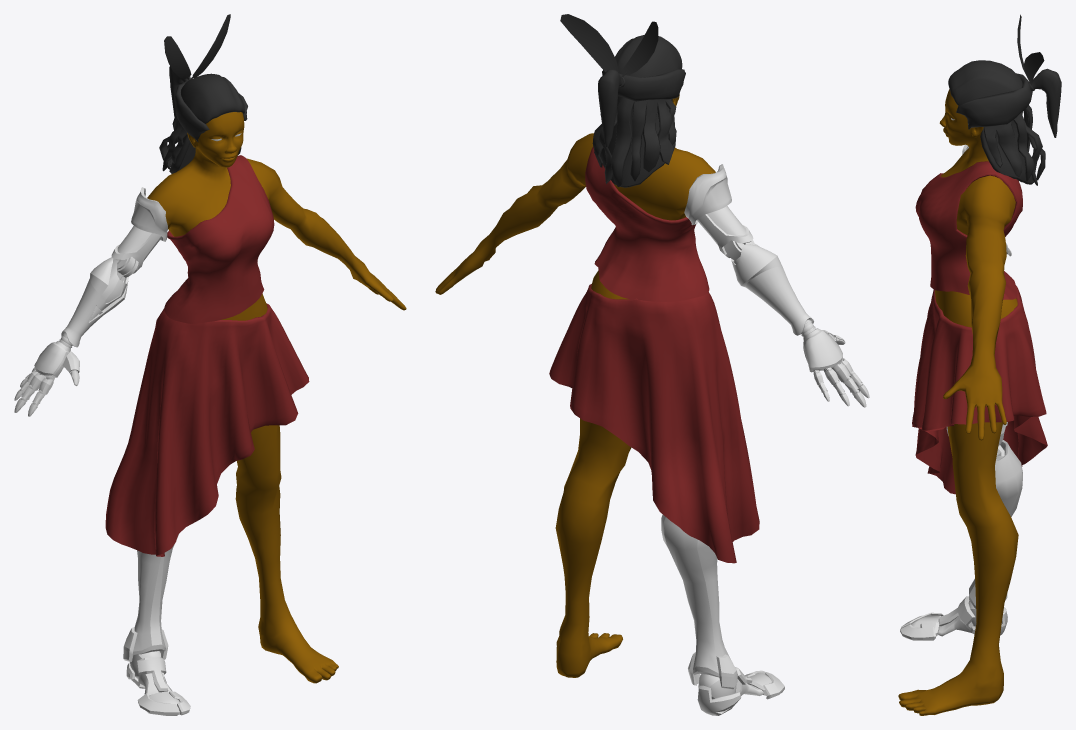
The model's file is maorigirls.obj.
The picture shows the model from 3 angles, left to right: view 1: azimuth 30°, elevation 25°; view 2: azimuth 150°, elevation 25°; view 3: azimuth 270°, elevation 25°; orthographic projection. The views are drawn at different scales.
Visible parts, largest first — view 1: Geo StaticSkirt, Geo GirlModel, Geo ShirtObject, Geo leg Lower_LEg, Geo OnTopHair Hair1, MainForeArm ForeArm Geo, Geo ShoulderRotator, Geo Bicep, Geo Hair1 Hair_wraparound, Geo Hand Palm_Piece, ForeArm Geo ForeArm_Inner, Geo Hair1 CurlyHair (+2 smaller); view 2: Geo StaticSkirt, Geo GirlModel, Geo ShirtObject, Geo leg Lower_LEg, Geo Hair1 CurlyHair, MainForeArm ForeArm Geo, Geo ShoulderRotator, Geo Hair1 Hair_wraparound, Geo OnTopHair Hair1, Geo Bicep, Geo pPlane26 Feather1, Geo Hand Palm_Piece (+4 smaller); view 3: Geo GirlModel, Geo StaticSkirt, Geo ShirtObject, Geo Hair1 CurlyHair, Geo OnTopHair Hair1, Geo Hair1 Hair_wraparound, Geo leg Lower_LEg, Geo Hair1 Ponytail, Geo Hair1 MainHangingHair, Geo leg Foot Big_Toe_Piece, Geo leg Foot Top_of_foot, Geo pPlane26 Feather1 (+1 smaller).
Part boxes in pixels (<box>): Geo StaticSkirt: <box>105,303,309,556</box>; Geo GirlModel: <box>147,112,406,683</box>; Geo ShirtObject: <box>164,155,274,323</box>; Geo leg Lower_LEg: <box>123,534,178,661</box>; Geo OnTopHair Hair1: <box>181,73,244,123</box>; MainForeArm ForeArm Geo: <box>61,257,128,347</box>; Geo ShoulderRotator: <box>131,187,167,241</box>; Geo Bicep: <box>111,226,161,273</box>; Geo Hair1 Hair_wraparound: <box>174,79,247,142</box>; Geo Hand Palm_Piece: <box>34,340,70,377</box>; ForeArm Geo ForeArm_Inner: <box>90,259,129,320</box>; Geo Hair1 CurlyHair: <box>159,114,187,171</box>; Geo StaticSkirt: <box>549,284,759,563</box>; Geo GirlModel: <box>435,94,715,677</box>; Geo ShirtObject: <box>585,146,709,302</box>; Geo leg Lower_LEg: <box>661,514,737,689</box>; Geo Hair1 CurlyHair: <box>592,96,676,186</box>; MainForeArm ForeArm Geo: <box>730,244,813,335</box>; Geo ShoulderRotator: <box>684,164,731,225</box>; Geo Hair1 Hair_wraparound: <box>602,69,685,101</box>; Geo OnTopHair Hair1: <box>615,35,682,77</box>; Geo Bicep: <box>697,206,753,257</box>; Geo pPlane26 Feather1: <box>560,14,618,72</box>; Geo Hand Palm_Piece: <box>803,328,842,372</box>; Geo GirlModel: <box>898,89,1018,715</box>; Geo StaticSkirt: <box>912,285,1047,494</box>; Geo ShirtObject: <box>915,161,1022,299</box>; Geo Hair1 CurlyHair: <box>984,105,1045,185</box>; Geo OnTopHair Hair1: <box>948,60,1022,105</box>; Geo Hair1 Hair_wraparound: <box>956,73,1032,129</box>; Geo leg Lower_LEg: <box>969,440,1022,608</box>; Geo Hair1 Ponytail: <box>1032,68,1061,137</box>; Geo Hair1 MainHangingHair: <box>980,120,1034,184</box>; Geo leg Foot Big_Toe_Piece: <box>900,622,935,640</box>; Geo leg Foot Top_of_foot: <box>938,596,975,626</box>; Geo pPlane26 Feather1: <box>1023,52,1044,85</box>.
Bounding box in the file's own units: 24.17 × 37.25 × 8.59.
